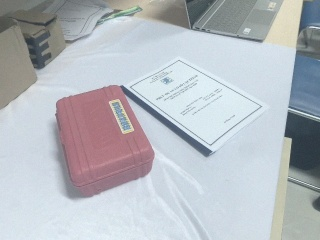box: (53, 83, 158, 200), (1, 14, 38, 119), (9, 8, 68, 70)
mouse: (312, 189, 320, 216)
